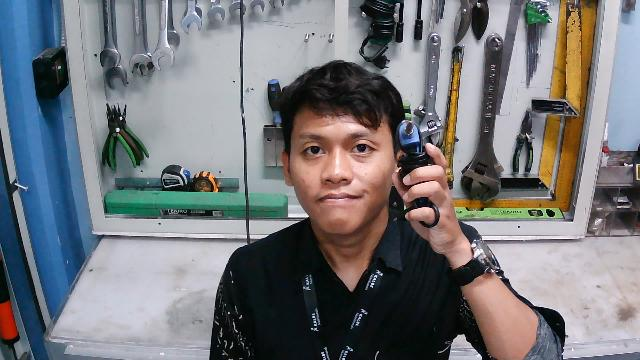solder_electrical: (391, 118, 447, 232)
